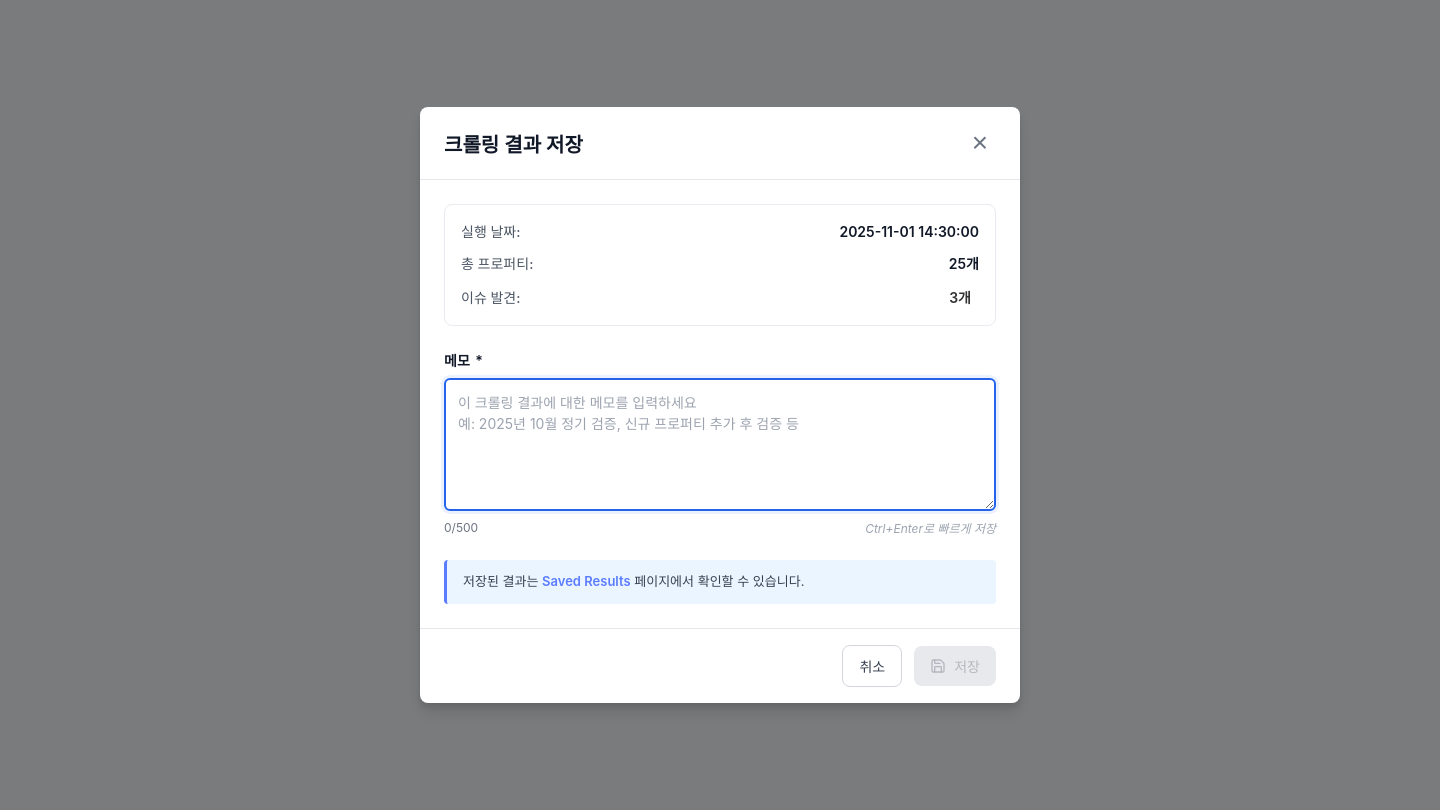
Scenario: SaveResultModal Component › Button States and Interactions › should enable save button when memo has content
The image size is (1440, 810).
In the text box labelled "메모 *": [720, 445] box x1=444 y1=378 x2=996 y2=511, type "Valid memo"
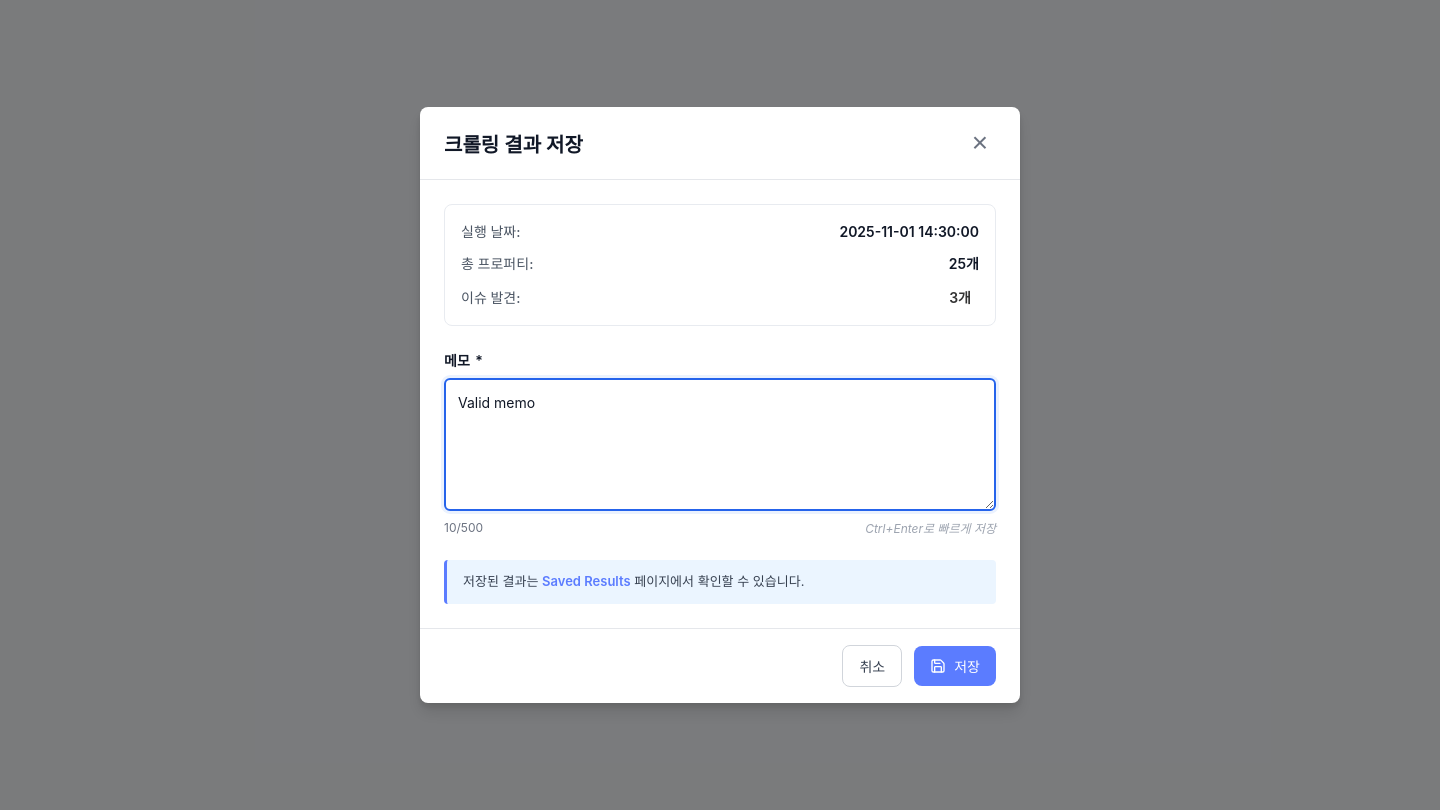
Result: the button "저장" is enabled at x1=914 y1=646 x2=996 y2=686
